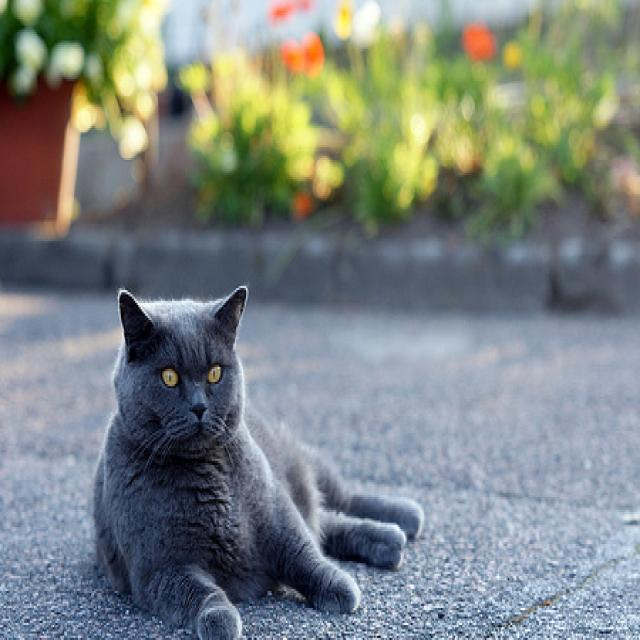British Shorthair: (90, 277, 427, 640)
